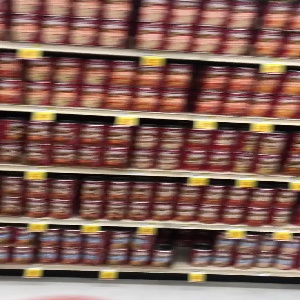void: (173, 225, 191, 275)
